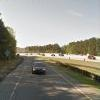Car: (24, 54, 58, 84)
